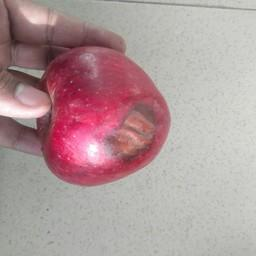Bad_apple: (40, 45, 171, 191)
